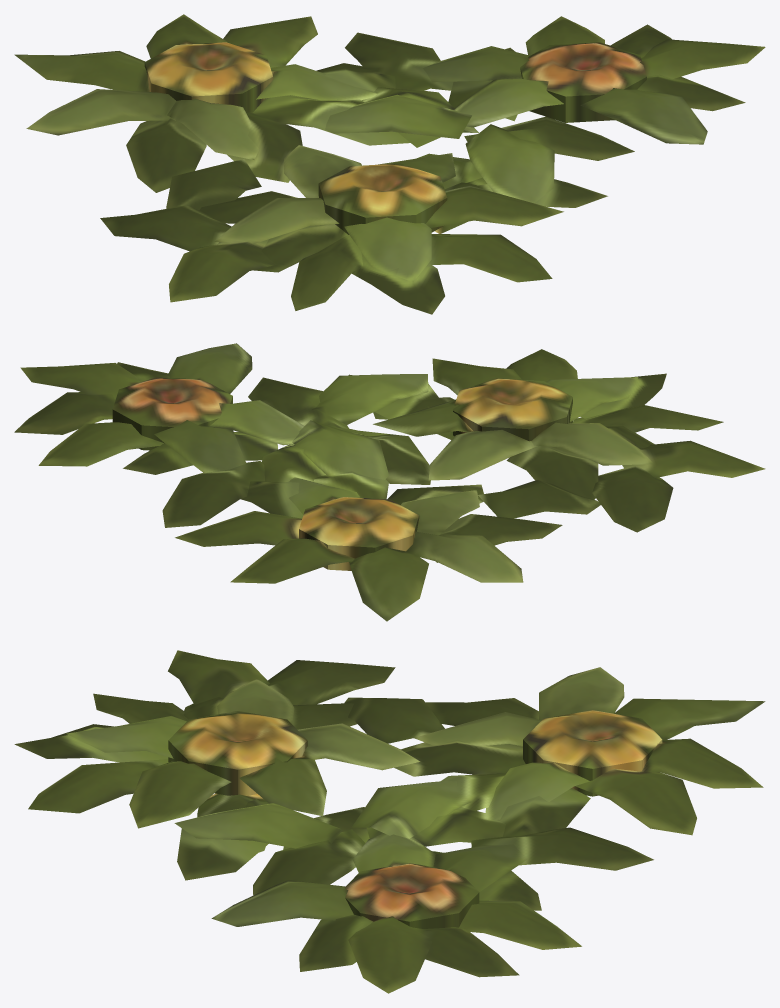
Rendered from stylise plant.FBX.
3 renders of one model, top to bottom at view 1: azimuth 30°, elevation 25°; view 2: azimuth 150°, elevation 25°; view 3: azimuth 270°, elevation 25°, orthographic. The views are drawn at different scales.
Visible parts, largest first — view 1: Cylinder120; view 2: Cylinder120; view 3: Cylinder120.
Part boxes in pixels (x1,y1,x2,y2): Cylinder120: [14, 14, 765, 314]; Cylinder120: [14, 343, 765, 621]; Cylinder120: [14, 650, 765, 993].
Bounding box in the file's own units: 37.18 × 3.11 × 33.18.
1 material, 1 textured.
